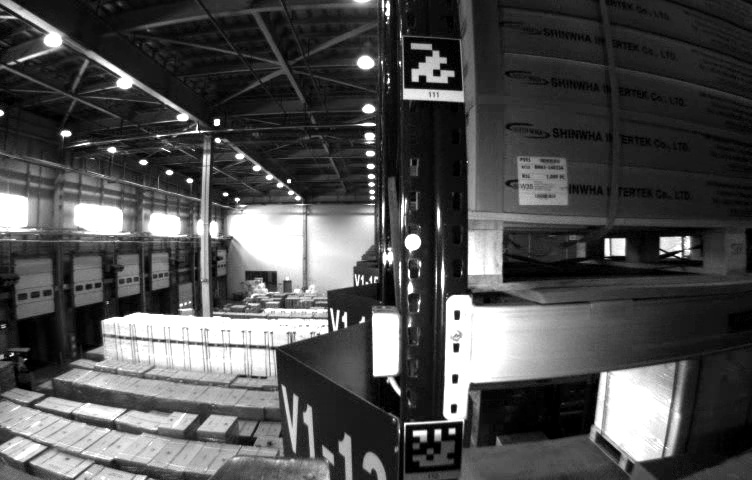True Barcode: (517, 152, 570, 206)
